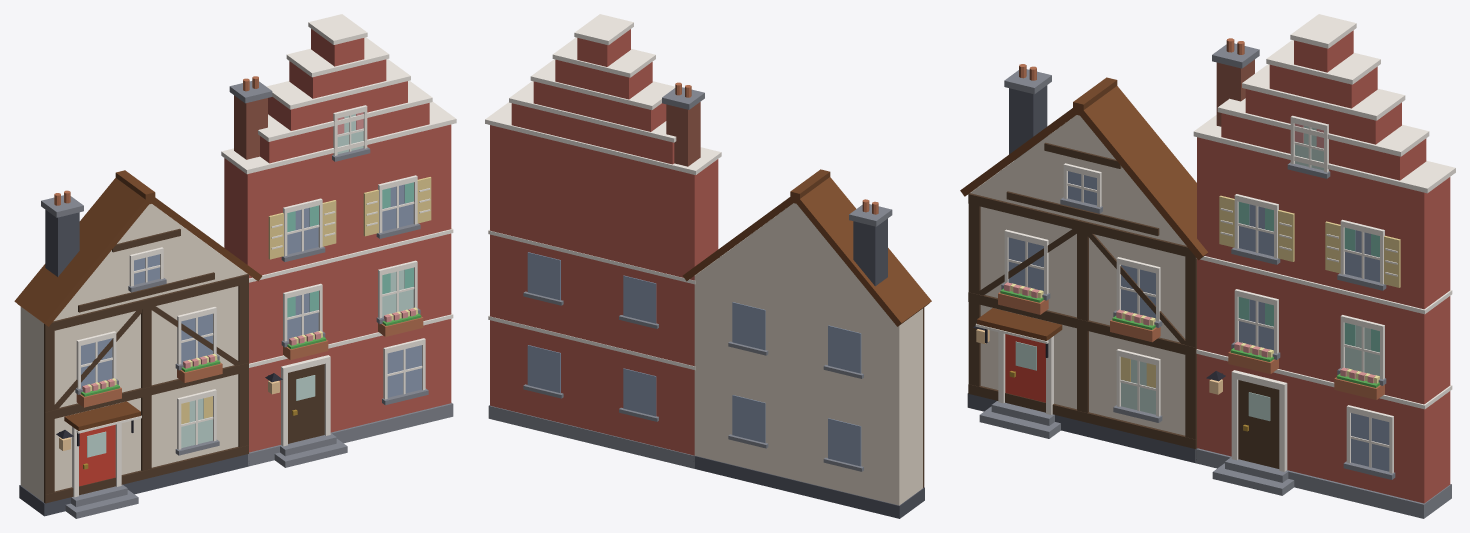
Rendered from CatCafe_Alley_Building_NarrowHouses.glb.
The picture shows the model from 3 angles, left to right: view 1: azimuth 30°, elevation 25°; view 2: azimuth 150°, elevation 25°; view 3: azimuth 330°, elevation 25°; orthographic projection. The views are drawn at different scales.
Visible parts, largest first — view 1: CatCafe_Alley_Building_NarrowHouses, CatCafe_Alley_Building_NarrowHouses_Pane, CatCafe_Alley_Building_NarrowHouses_Flowers; view 2: CatCafe_Alley_Building_NarrowHouses; view 3: CatCafe_Alley_Building_NarrowHouses, CatCafe_Alley_Building_NarrowHouses_Pane, CatCafe_Alley_Building_NarrowHouses_Flowers.
Part boxes in pixels (x1,y1,x2,y2): CatCafe_Alley_Building_NarrowHouses: (14,14,456,518); CatCafe_Alley_Building_NarrowHouses_Pane: (181,114,413,447); CatCafe_Alley_Building_NarrowHouses_Flowers: (81,307,421,396); CatCafe_Alley_Building_NarrowHouses: (485,14,931,518); CatCafe_Alley_Building_NarrowHouses: (960,14,1455,518); CatCafe_Alley_Building_NarrowHouses_Pane: (1121,125,1379,414); CatCafe_Alley_Building_NarrowHouses_Flowers: (1000,282,1379,387).
Size of the model in its own units: 30.61 by 28.5 by 5.1.
Materials: 1 (1 with a texture image).
